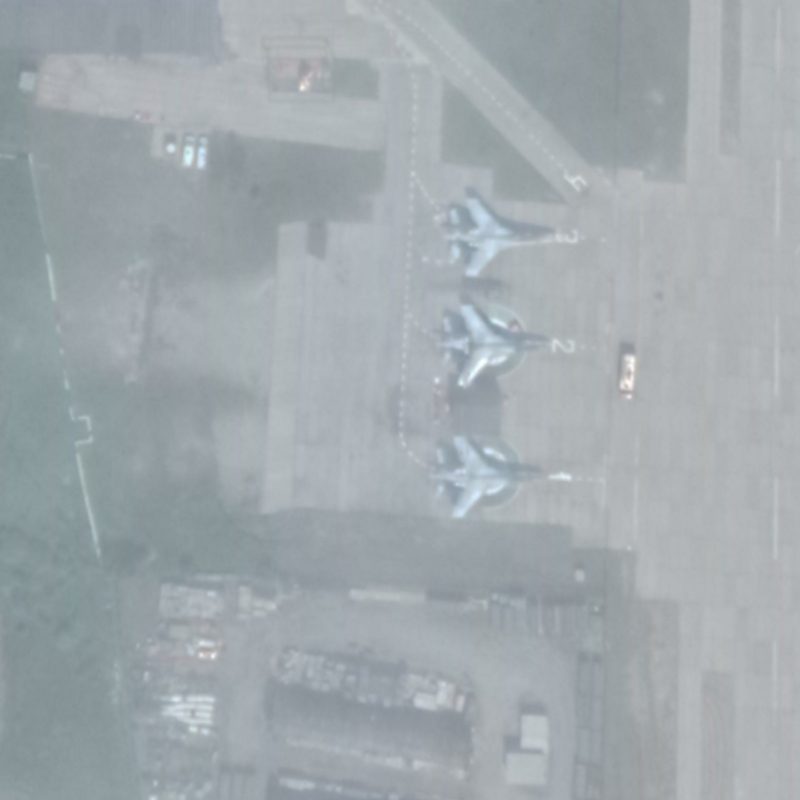A1: (428, 432, 568, 520), (440, 194, 568, 281), (434, 298, 556, 389)
